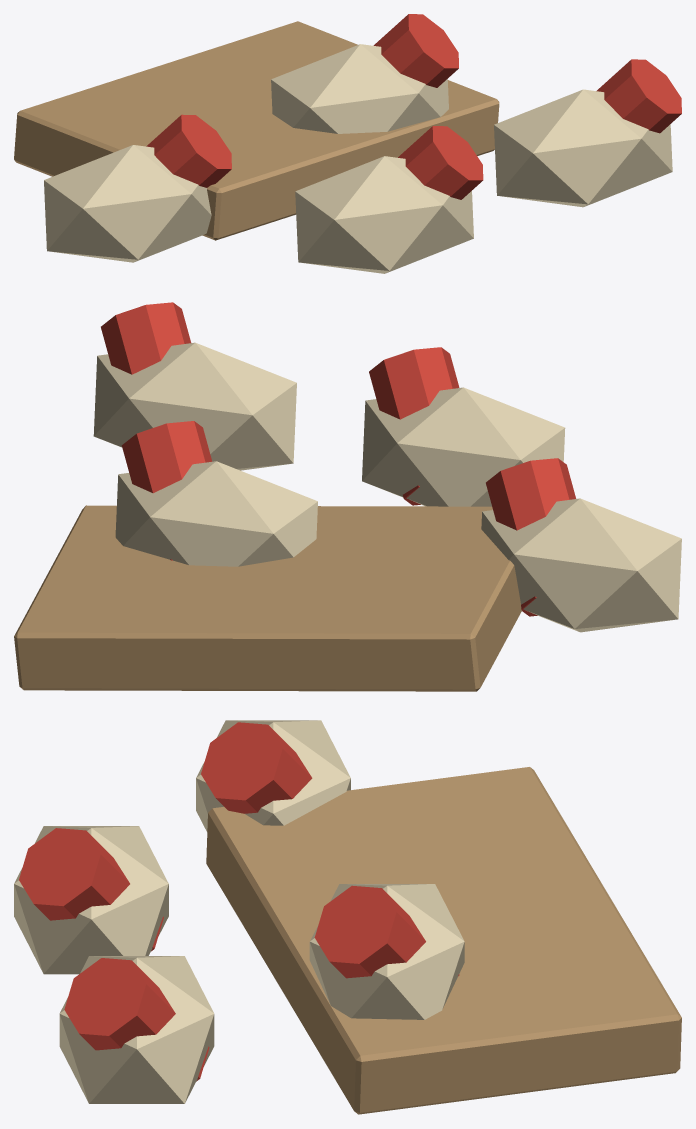
The model's file is Loose_Garbage_Pile.glb.
3 renders of one model, top to bottom at view 1: azimuth 30°, elevation 25°; view 2: azimuth 150°, elevation 25°; view 3: azimuth 270°, elevation 25°, orthographic. The views are drawn at different scales.
Visible parts, largest first — view 1: Loose_Garbage_Pile; view 2: Loose_Garbage_Pile; view 3: Loose_Garbage_Pile.
Part boxes in pixels (box(x1,y1,x2,y2)): Loose_Garbage_Pile: box(14, 14, 681, 273); Loose_Garbage_Pile: box(14, 302, 681, 691); Loose_Garbage_Pile: box(14, 720, 681, 1114).
Size of the model in its own units: 0.7053 by 0.1762 by 0.5871.
